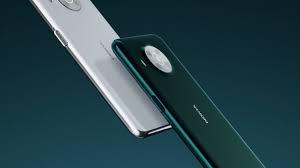Smartphone: (30, 0, 182, 144), (119, 33, 262, 168)
